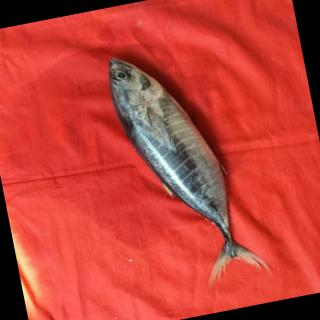Ikan: (87, 28, 281, 312)
